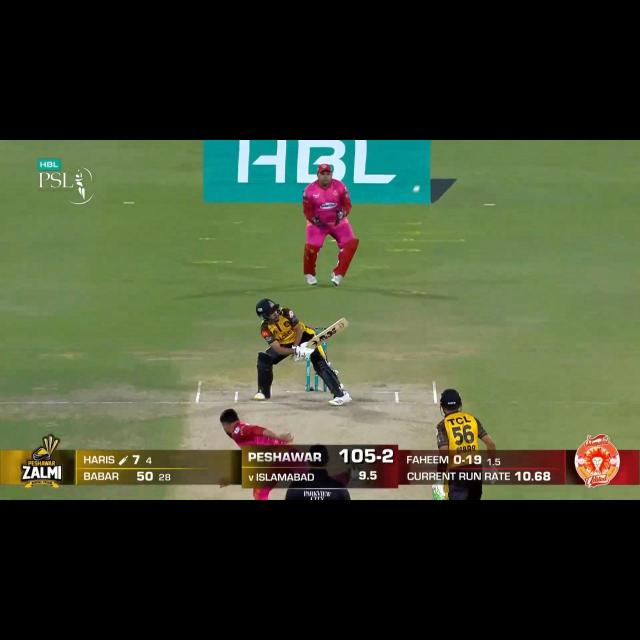bat: (304, 314, 347, 352)
toe: (338, 316, 348, 330)
